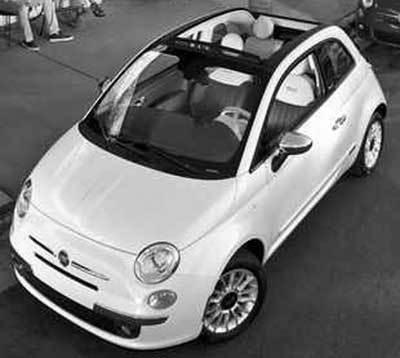car: (7, 10, 385, 353)
